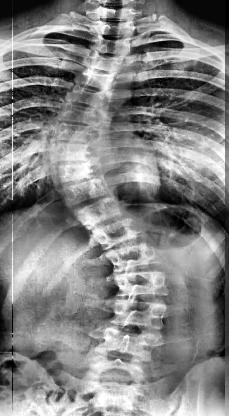Vertebrae: (94, 326, 160, 362), (89, 213, 149, 251), (56, 172, 114, 208), (71, 195, 129, 231), (103, 241, 166, 273), (110, 296, 168, 330), (49, 156, 103, 187), (114, 270, 170, 298), (46, 138, 102, 164), (55, 102, 107, 127), (50, 121, 102, 144), (65, 85, 114, 109), (82, 50, 130, 74), (74, 67, 121, 90), (90, 34, 136, 57)
